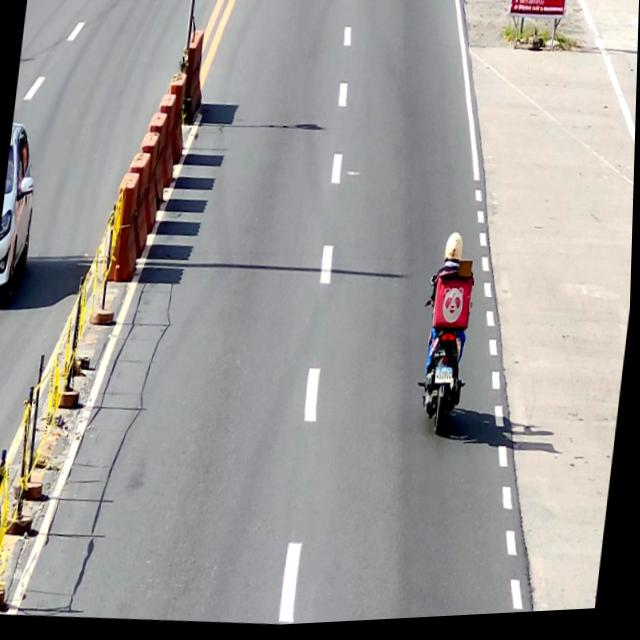Car: (0, 119, 46, 307)
License-Plate: (435, 369, 456, 391)
Motorcycle: (413, 273, 481, 441)
